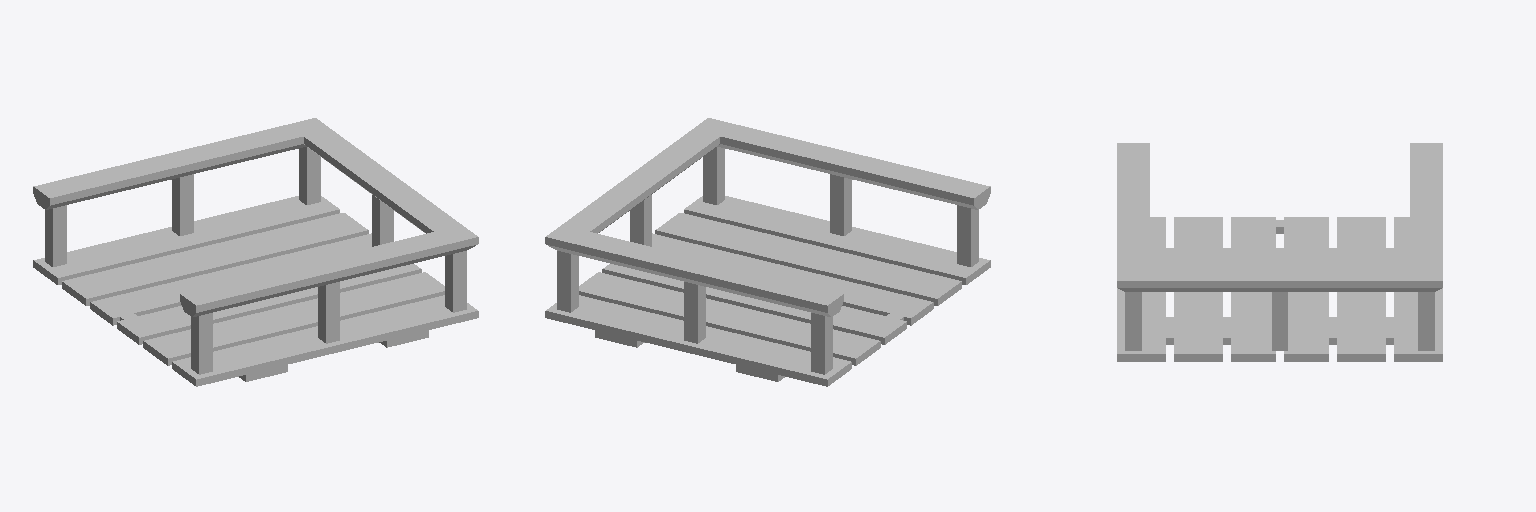
File: scaffold_low_cornerBoth.obj
3 renders of one model, left to right at view 1: azimuth 30°, elevation 25°; view 2: azimuth 150°, elevation 25°; view 3: azimuth 270°, elevation 25°, orthographic.
Parts seen in each view (by area): view 1: scaffold_low_cornerBoth_Cube.2479; view 2: scaffold_low_cornerBoth_Cube.2479; view 3: scaffold_low_cornerBoth_Cube.2479.
Part boxes in pixels (x1,y1,x2,y2): scaffold_low_cornerBoth_Cube.2479: (33,118,478,386); scaffold_low_cornerBoth_Cube.2479: (545,118,990,386); scaffold_low_cornerBoth_Cube.2479: (1117,143,1442,361).
Size of the model in its own units: 4 by 1.2 by 4.